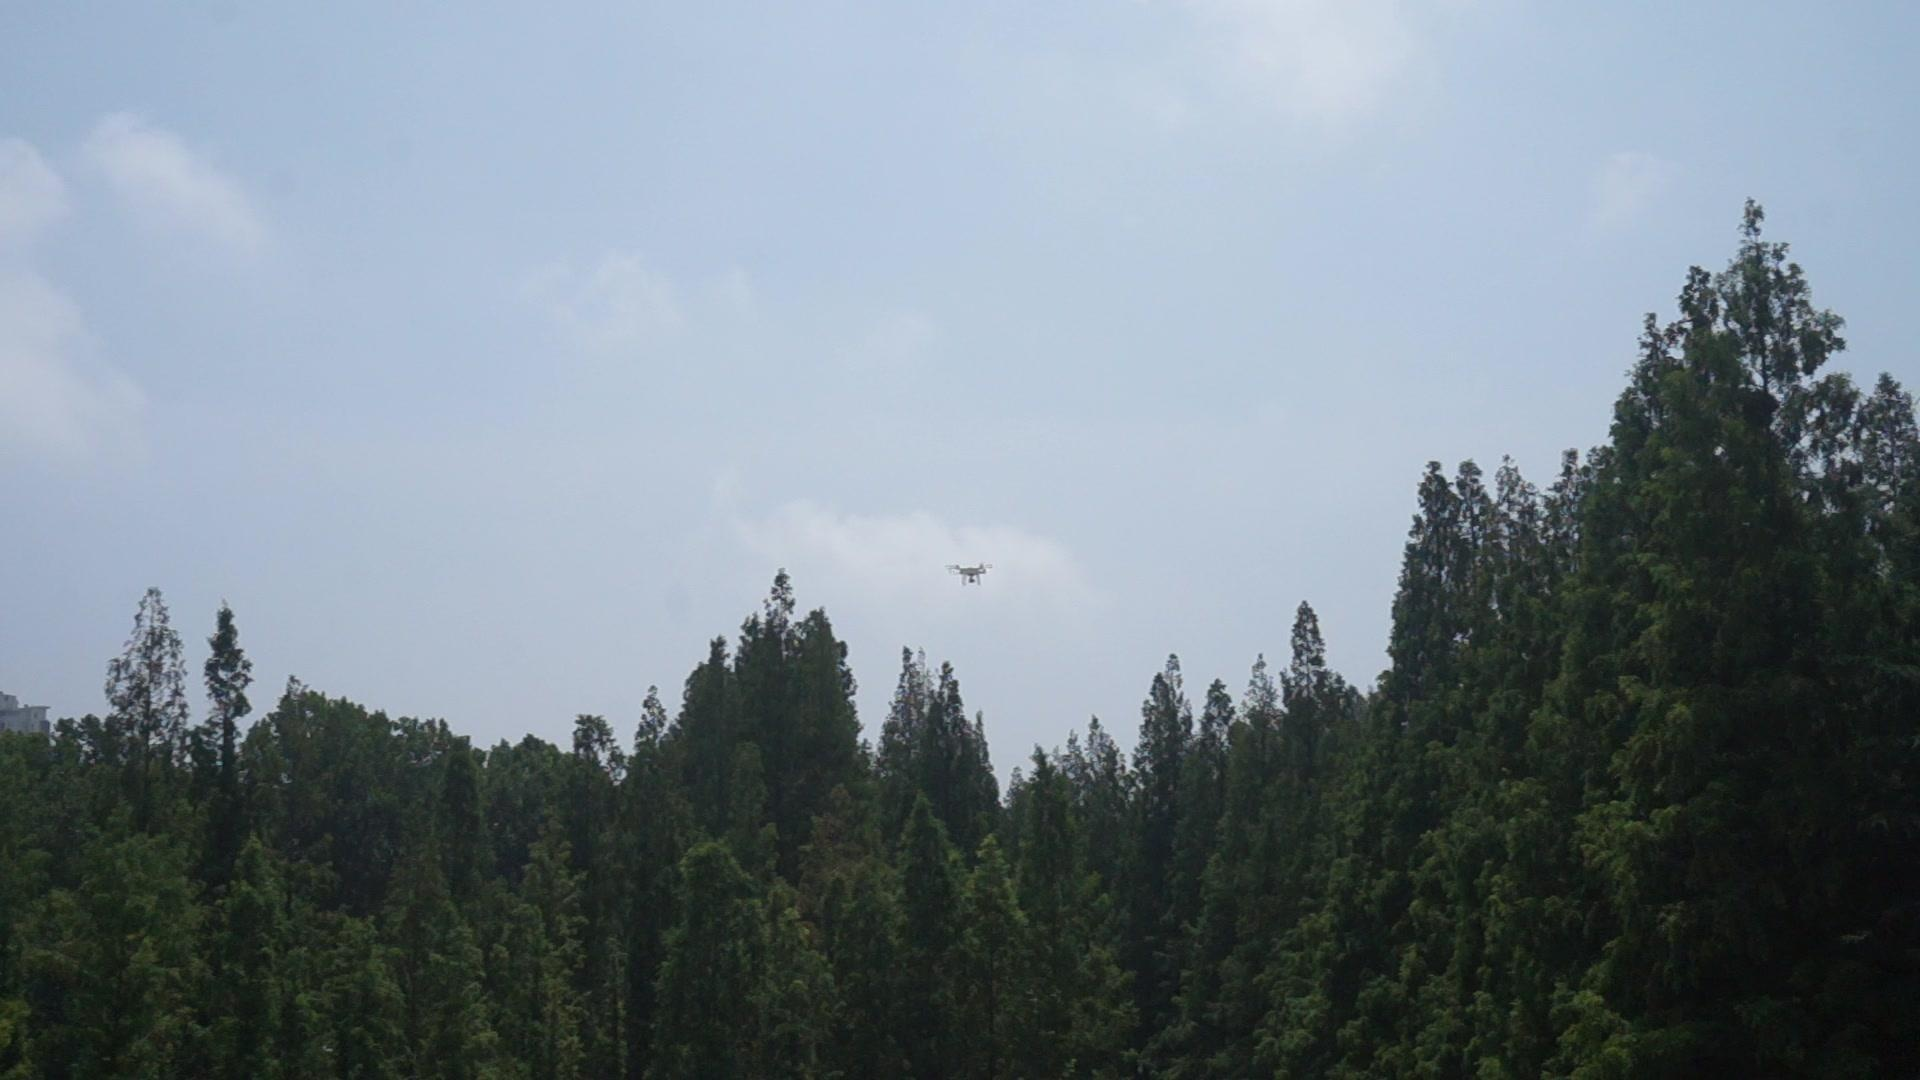UAV: (945, 564, 993, 585)
